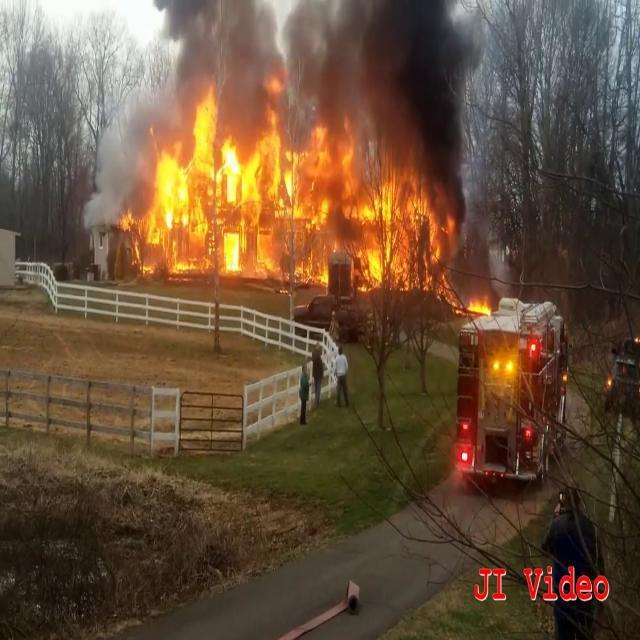Fire: (121, 90, 447, 292)
Smoke: (298, 0, 488, 188)
